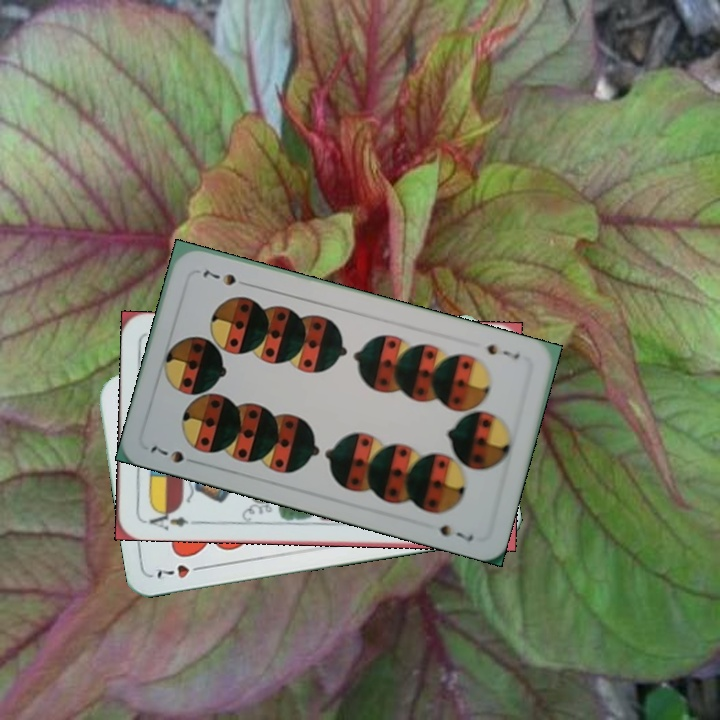EA: (145, 505, 191, 532)
H7: (151, 560, 209, 582)
S7: (146, 441, 187, 466), (482, 340, 523, 362)
